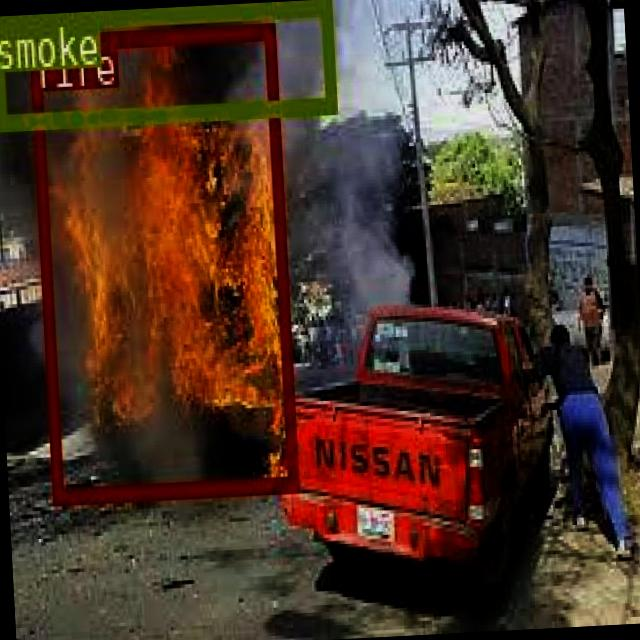fire: (26, 19, 296, 502)
smoke: (0, 0, 333, 130)
